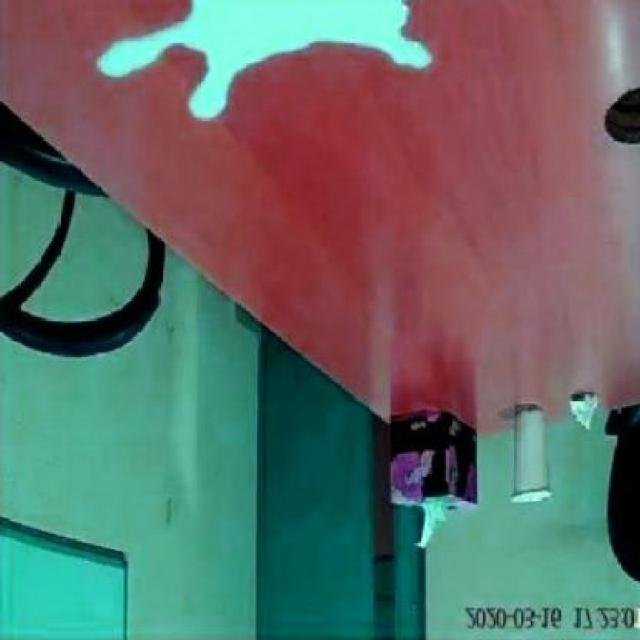spillage: (86, 0, 433, 119)
